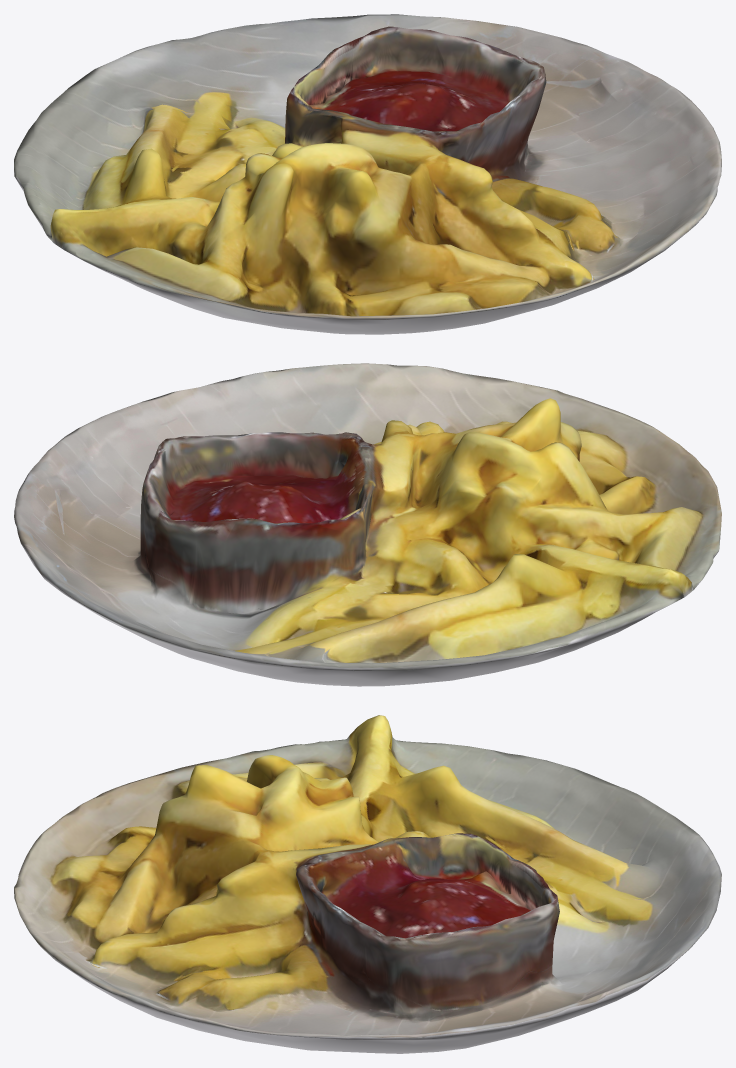
The model's file is french_fries.glb.
3 renders of one model, top to bottom at view 1: azimuth 30°, elevation 25°; view 2: azimuth 150°, elevation 25°; view 3: azimuth 270°, elevation 25°, orthographic.
Parts seen in each view (by area): view 1: Fries; view 2: Fries; view 3: Fries.
Part boxes in pixels (bbox=[...]): Fries: bbox=[14, 14, 721, 334]; Fries: bbox=[14, 363, 721, 686]; Fries: bbox=[14, 715, 721, 1053].
Bounding box in the file's own units: 0.2136 × 0.0532 × 0.2114.
Materials: 1 (1 with a texture image).
